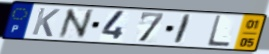4: (100, 9, 127, 43)
7: (138, 11, 167, 44)
I: (172, 13, 194, 45)
K: (30, 7, 62, 38)
L: (205, 15, 232, 49)
N: (56, 8, 95, 40)
